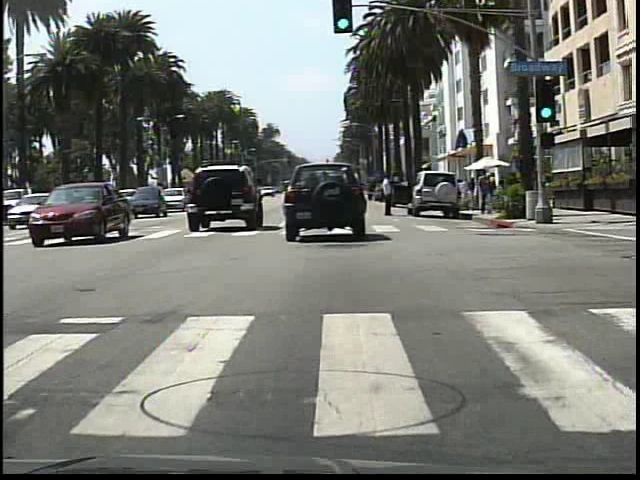person: (377, 167, 400, 221)
